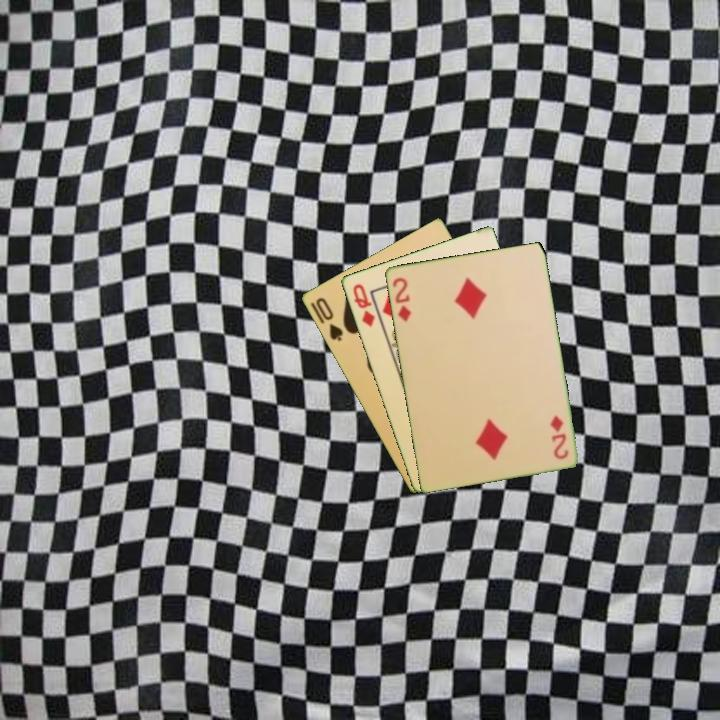10s: (312, 294, 346, 344)
2d: (388, 273, 414, 324), (547, 411, 571, 462)
Qd: (349, 280, 377, 330)
